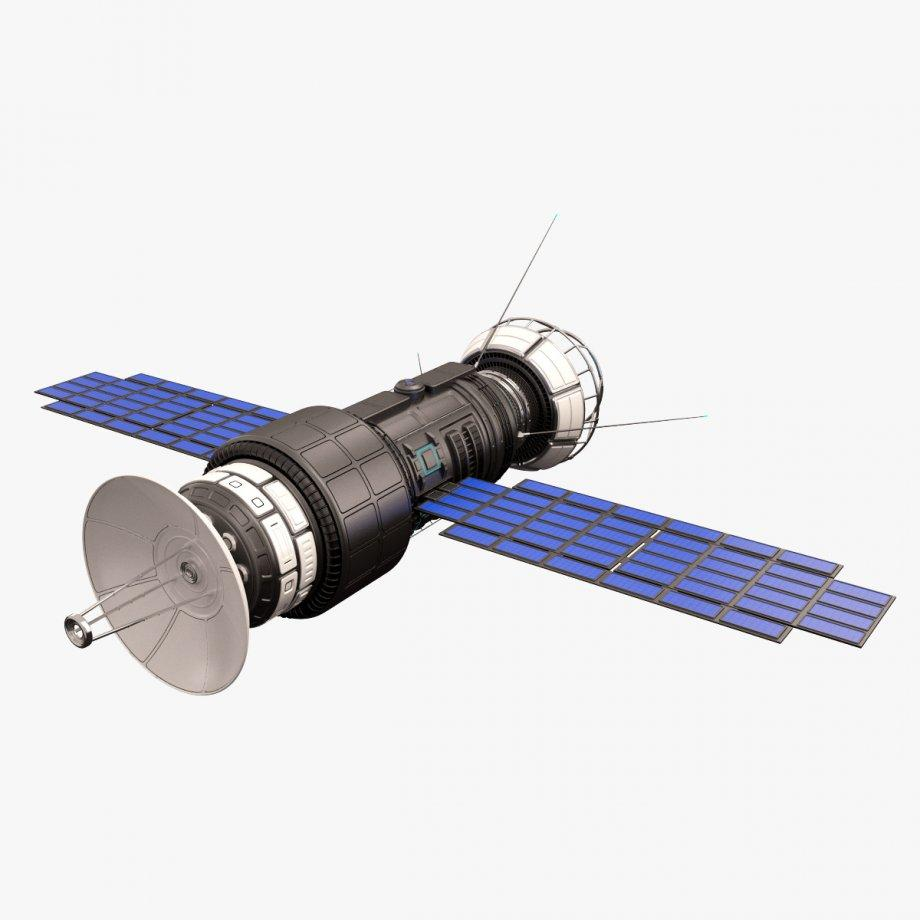antenna: (59, 466, 258, 701), (468, 206, 564, 372), (511, 411, 711, 441), (414, 348, 425, 380)
body: (175, 317, 608, 632)
solar: (413, 476, 897, 653), (32, 368, 295, 464)
